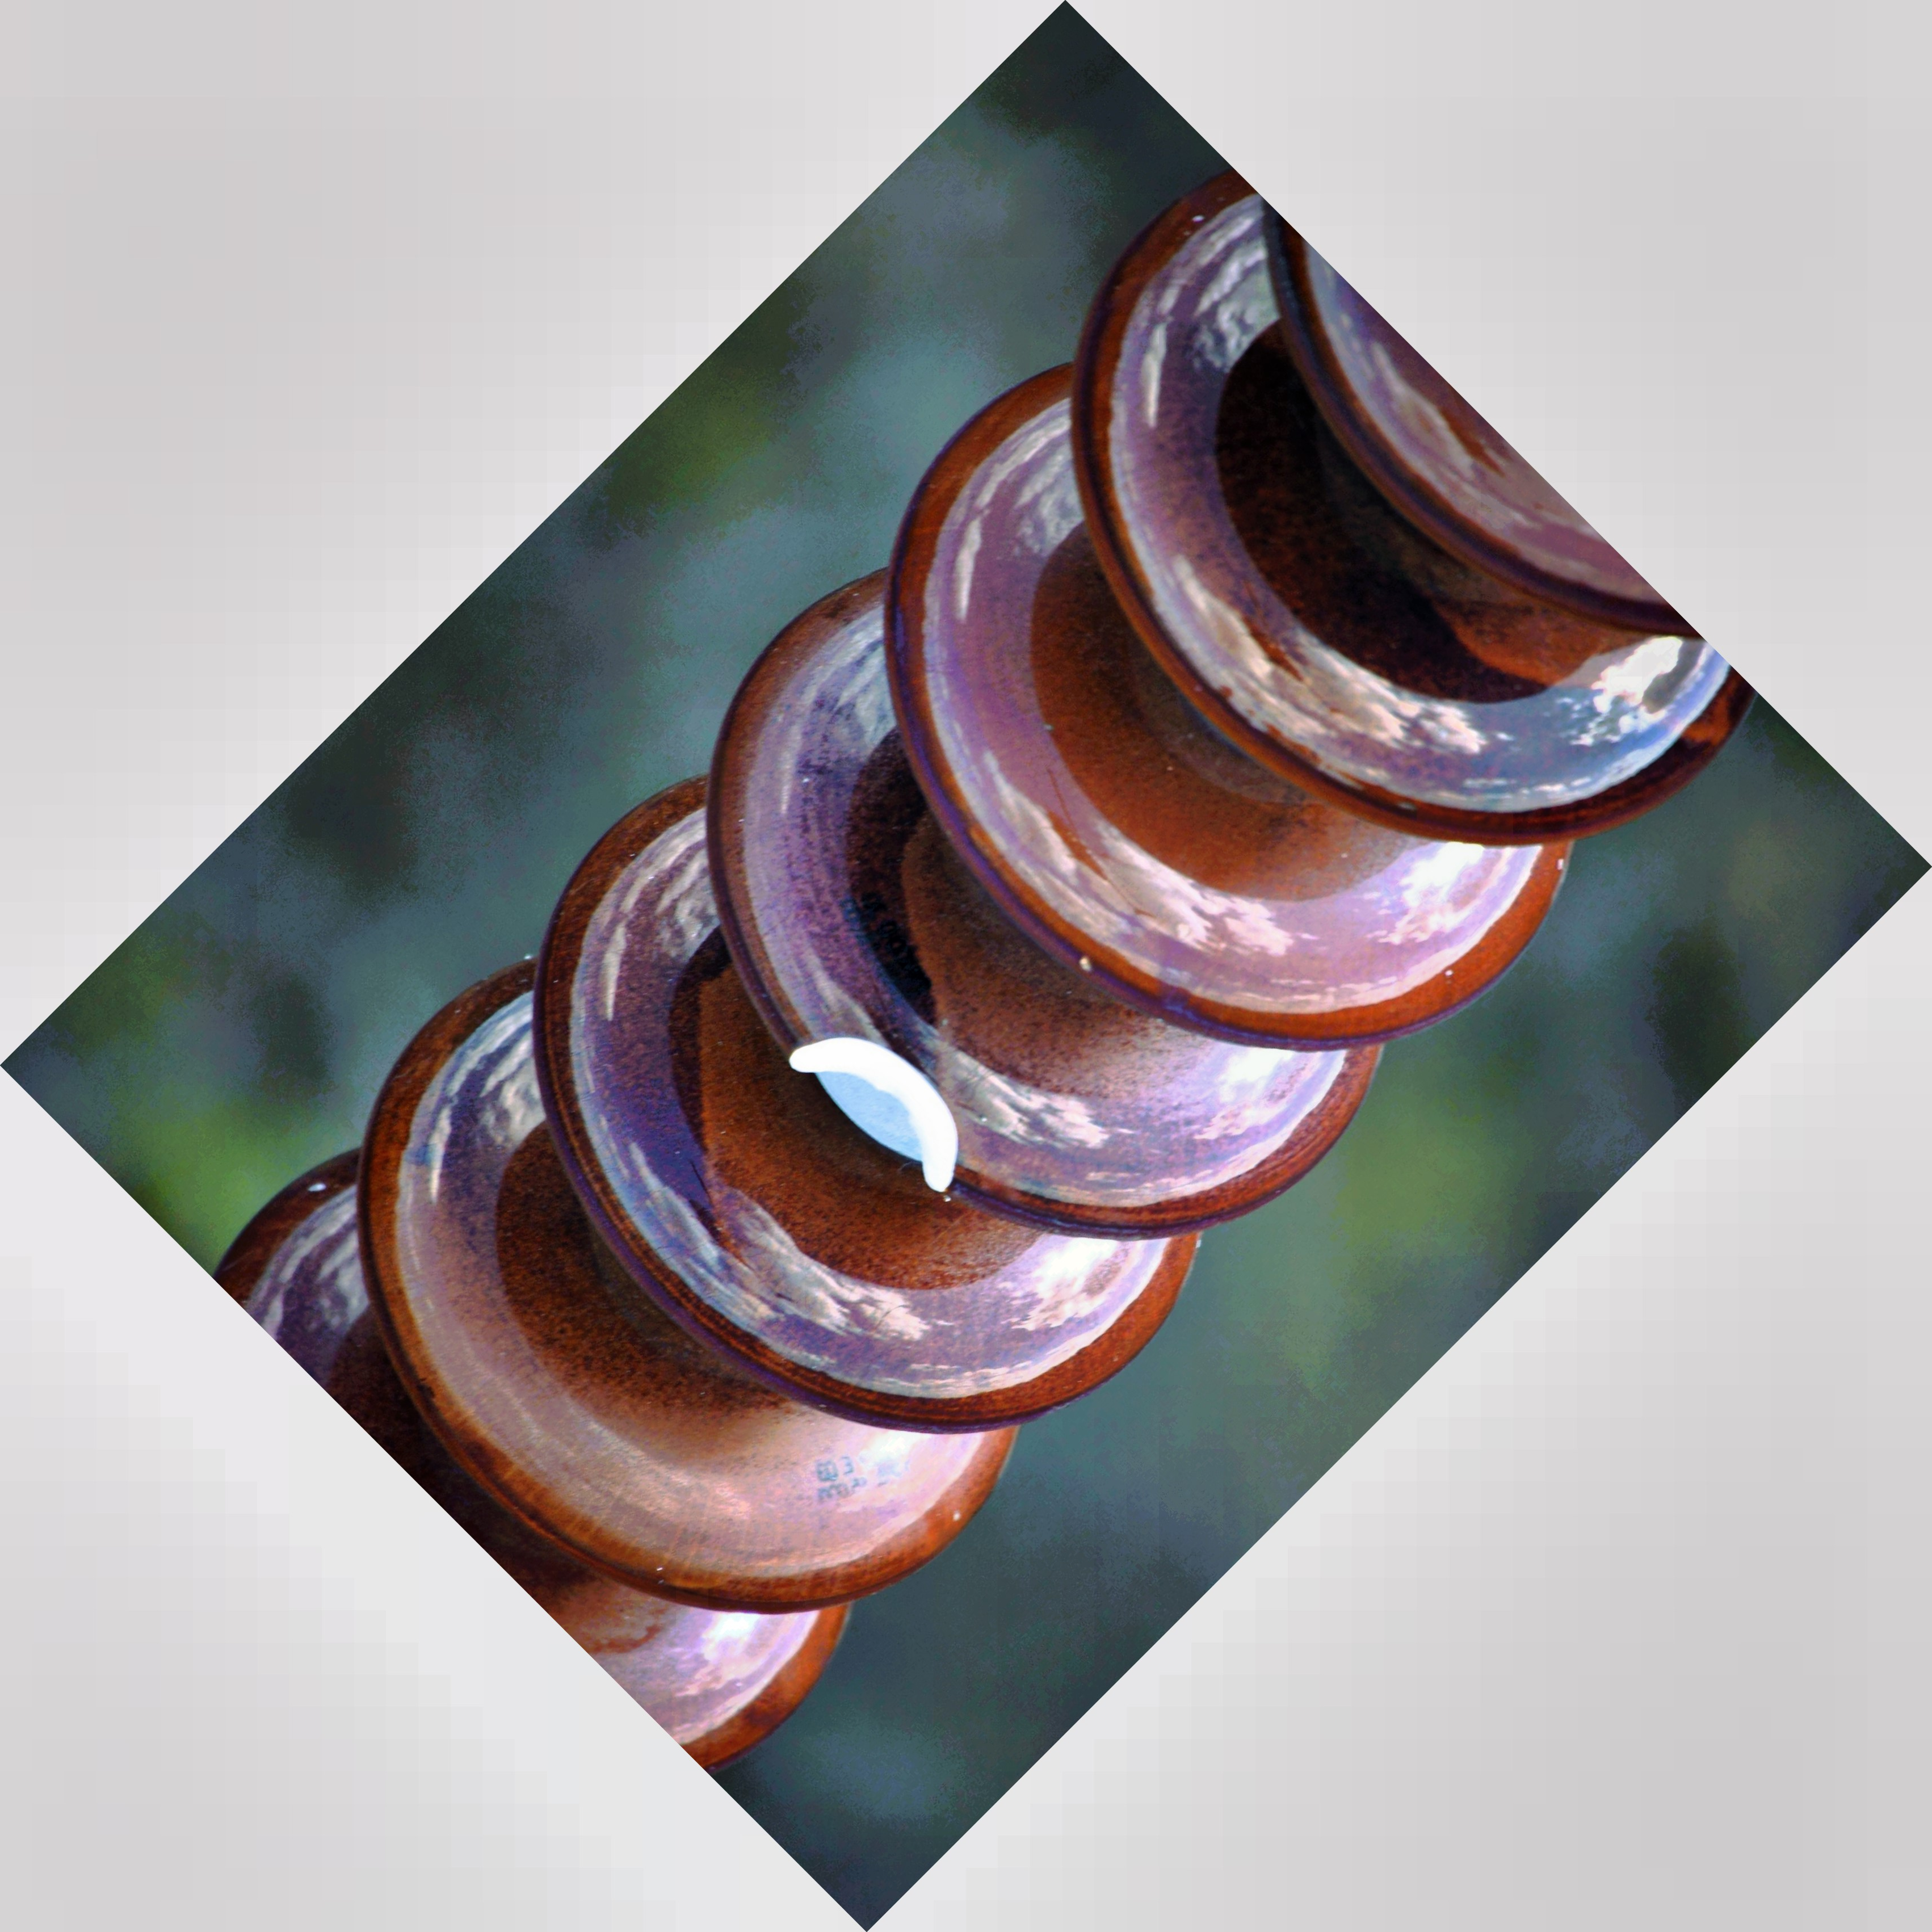insulator breakage: (683, 589, 1384, 1240)
